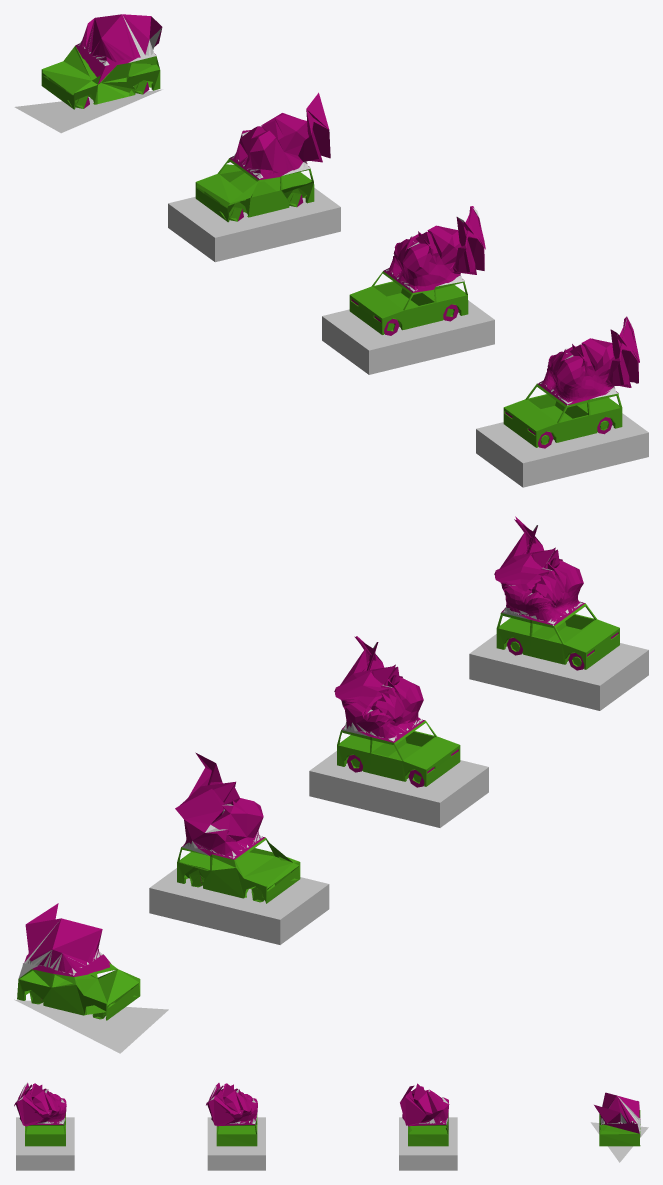
The model's file is car.obj.
The picture shows the model from 3 angles, top to bottom: view 1: azimuth 30°, elevation 25°; view 2: azimuth 150°, elevation 25°; view 3: azimuth 270°, elevation 25°; orthographic projection. The views are drawn at different scales.
Visible parts, largest first — view 1: car.002_Cube.004, car.003_Cube.006, car.004_Cube.007, car.005_Cube.008; view 2: car.002_Cube.004, car.003_Cube.006, car.004_Cube.007, car.005_Cube.008; view 3: car.002_Cube.004, car.003_Cube.006, car.004_Cube.007, car.005_Cube.008.
Boxes of the visible parts, x1,y1,x2,y2 form: car.002_Cube.004: (476,316,648,487); car.003_Cube.006: (322,206,494,374); car.004_Cube.007: (168,92,340,262); car.005_Cube.008: (14,14,162,133); car.002_Cube.004: (469,516,648,710); car.003_Cube.006: (309,636,488,827); car.004_Cube.007: (149,752,329,944); car.005_Cube.008: (14,903,168,1053); car.002_Cube.004: (14,1082,74,1170); car.003_Cube.006: (206,1083,265,1170); car.004_Cube.007: (399,1083,457,1170); car.005_Cube.008: (590,1092,648,1162).
Size of the model in its own units: 63.46 by 64.47 by 446.
